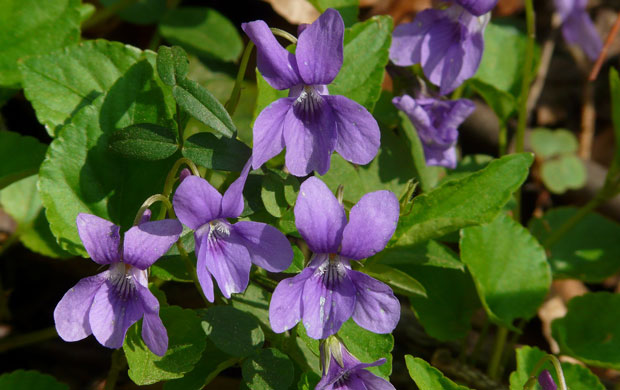violet: (233, 17, 394, 180), (32, 198, 185, 362), (278, 173, 408, 350), (157, 164, 291, 297)
